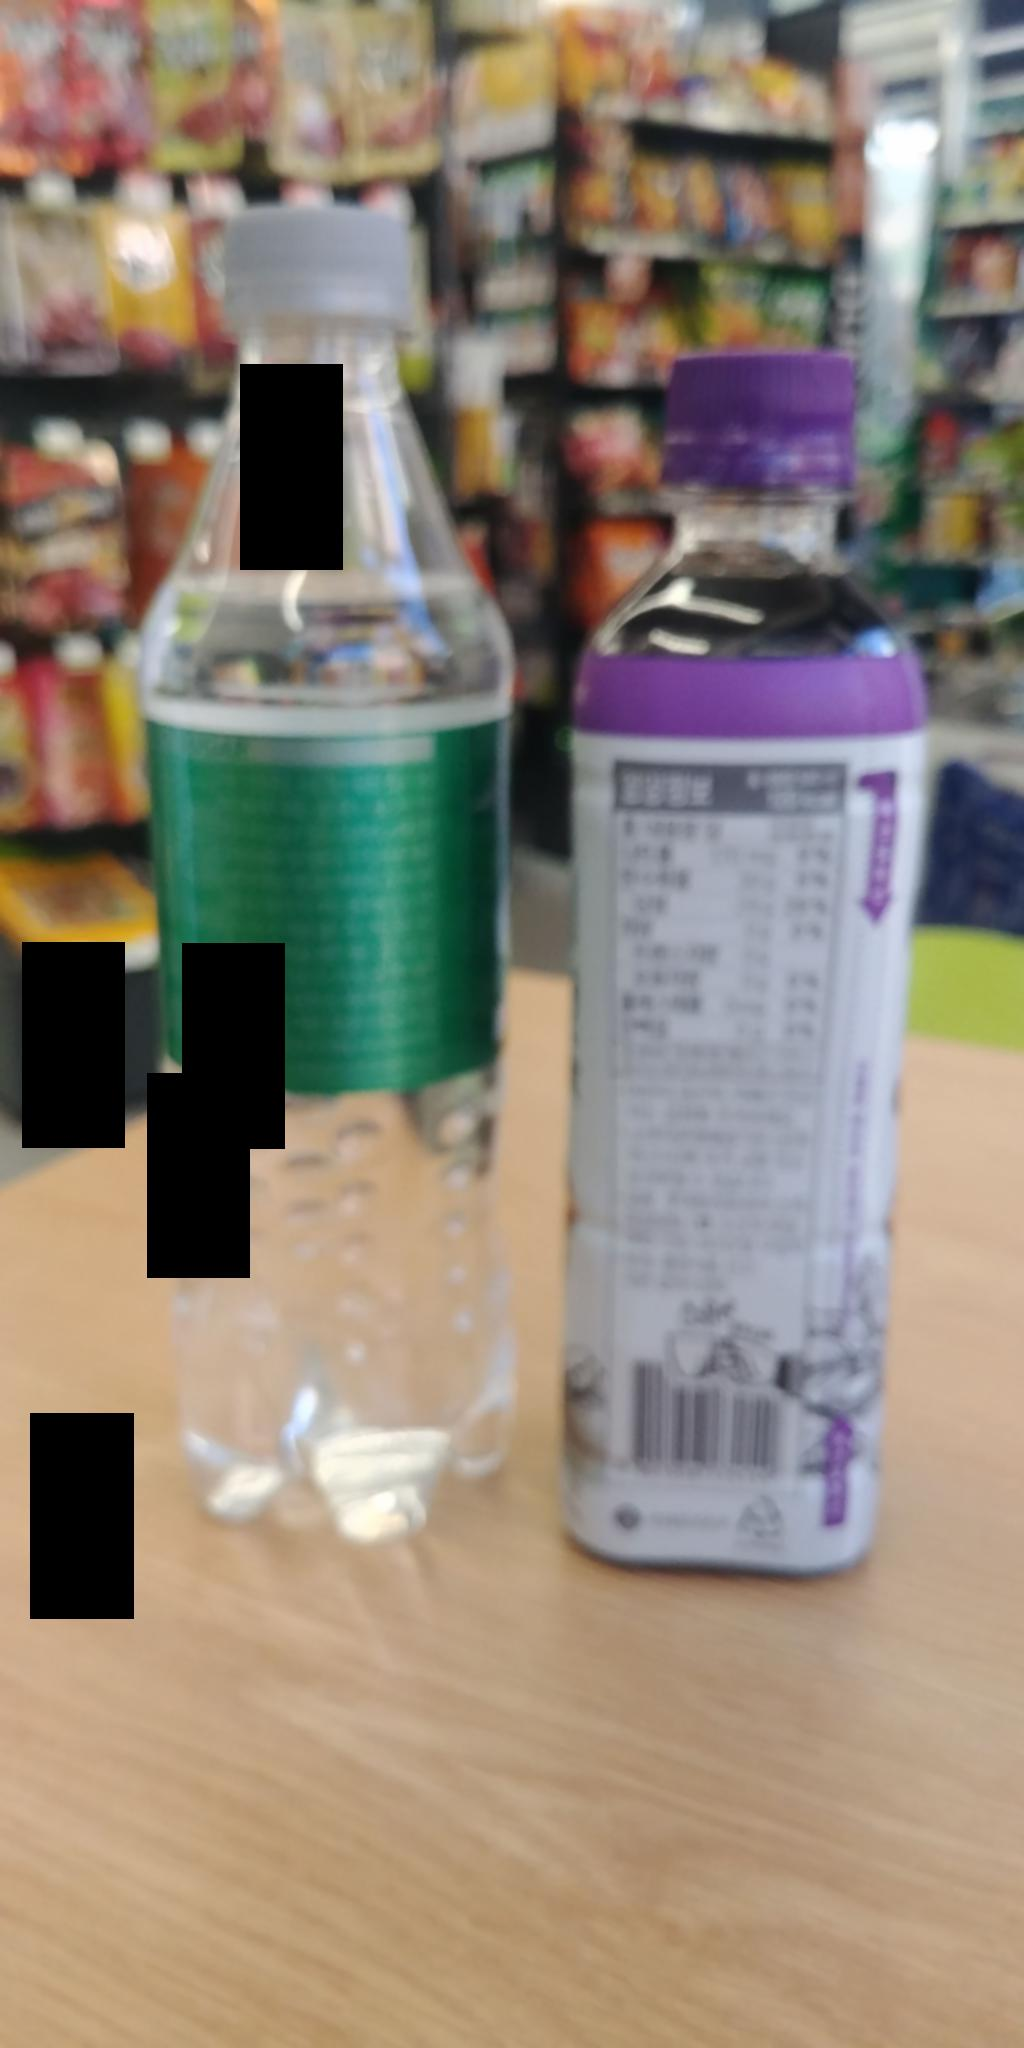letsbe_grande_hazelnut: (568, 325, 950, 1607)
sprite_zero: (119, 187, 552, 1540)
